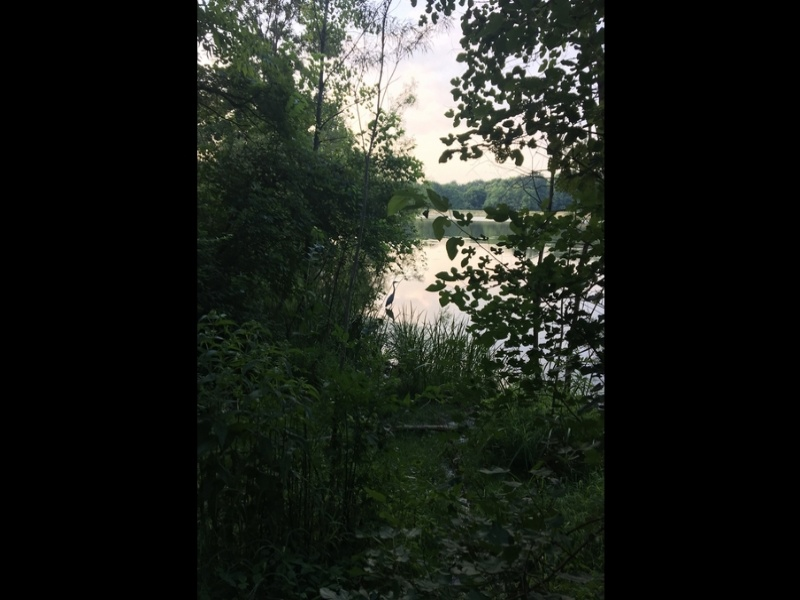heron: (384, 280, 398, 317)
